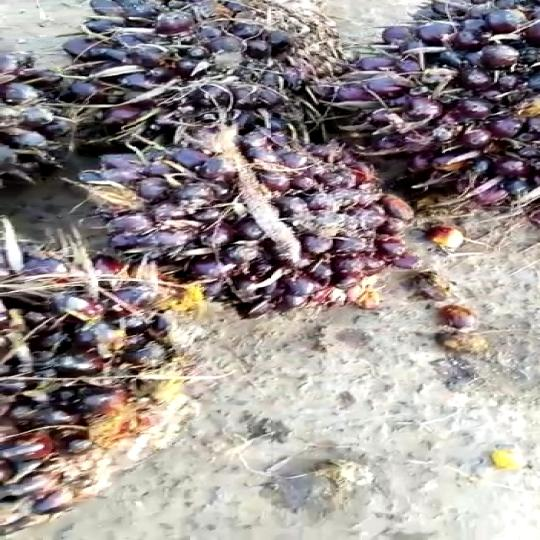mentah: (1, 205, 232, 518), (93, 122, 438, 314), (289, 3, 540, 220), (59, 0, 326, 117)
